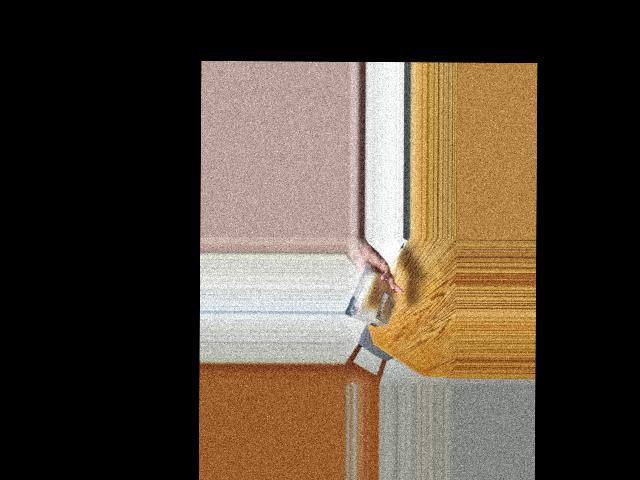cheese: (349, 271, 396, 327)
